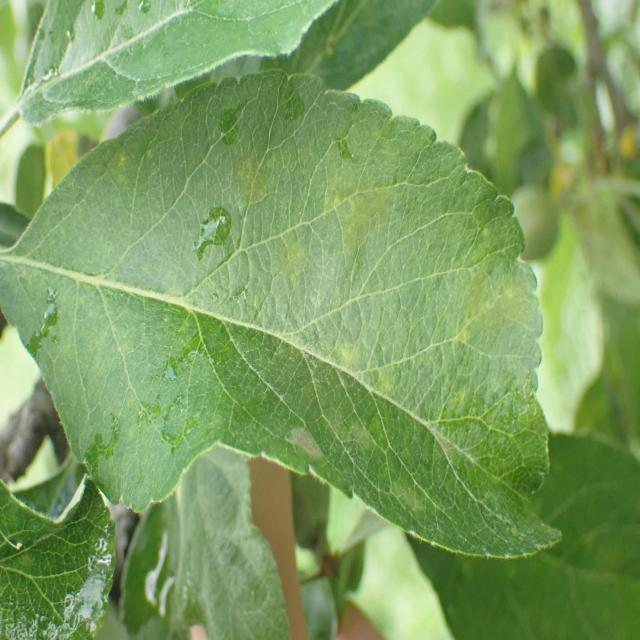scab: (51, 103, 548, 545)
